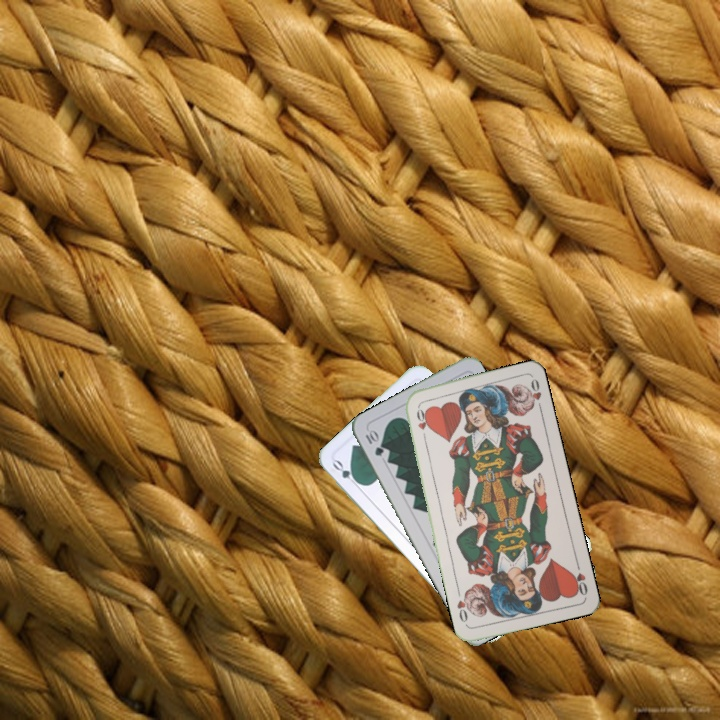G10: (361, 426, 386, 459)
GO: (328, 456, 364, 490)
HO: (568, 558, 590, 598), (412, 403, 429, 443)
